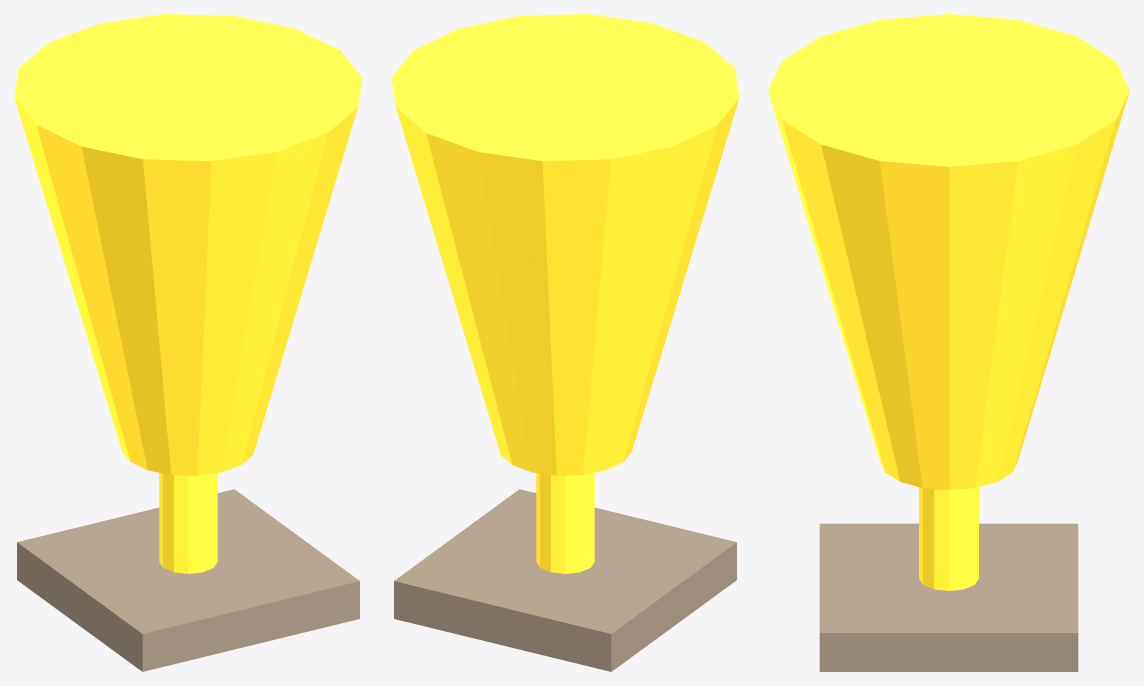
File: trofeu.glb
The picture shows the model from 3 angles, left to right: view 1: azimuth 30°, elevation 25°; view 2: azimuth 150°, elevation 25°; view 3: azimuth 270°, elevation 25°; orthographic projection. The views are drawn at different scales.
Visible parts, largest first — view 1: trofeu; view 2: trofeu; view 3: trofeu.
Boxes of the visible parts, x1,y1,x2,y2 form: trofeu: (14,14,362,671); trofeu: (391,14,739,671); trofeu: (768,14,1129,671).
Bounding box in the file's own units: 0.84 × 1.35 × 0.84.
